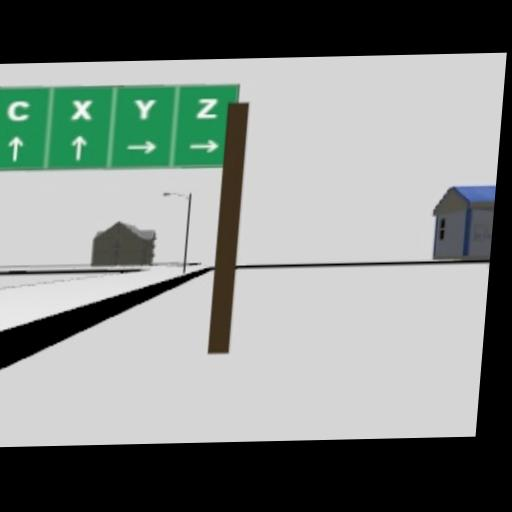C: (5, 101, 32, 124)
Right: (189, 137, 221, 155), (126, 139, 157, 156)
Straight: (70, 134, 88, 162), (7, 135, 25, 162)
X: (69, 98, 94, 122)
Y: (132, 98, 157, 123)
Z: (195, 96, 221, 120)
